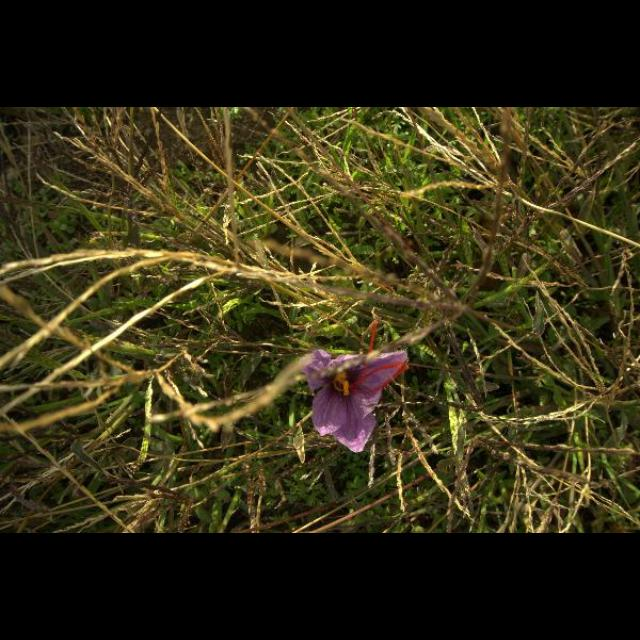flower: (296, 320, 409, 452)
